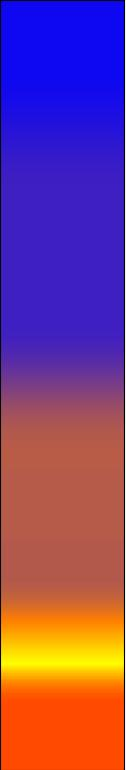Thermal Runaway: (4, 601, 121, 766), (5, 425, 121, 464)
critical: (6, 469, 120, 594), (5, 374, 120, 421)
safe: (5, 4, 120, 369)
